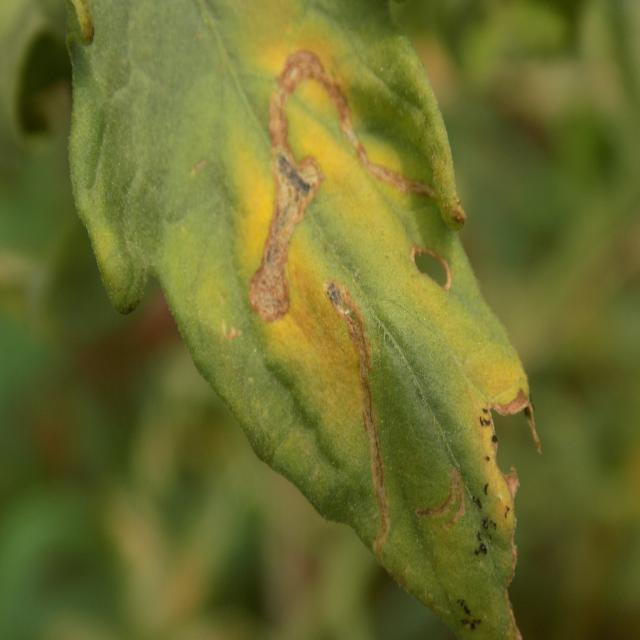tomato_early blight: (60, 0, 540, 640)
